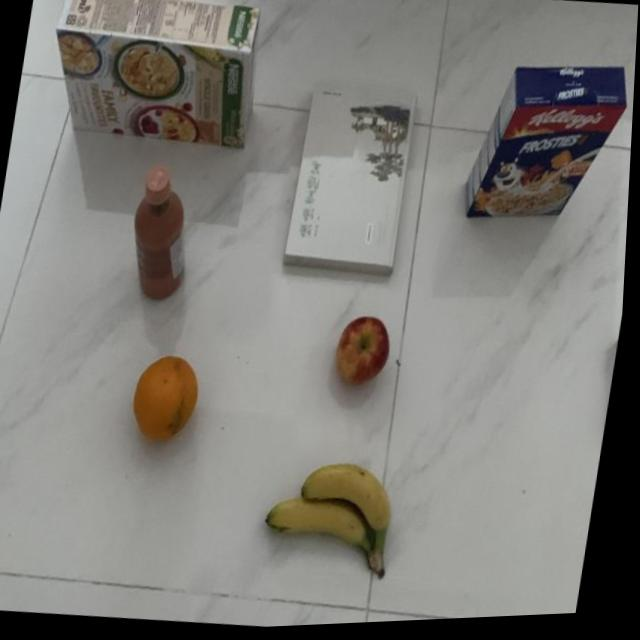Apple: (333, 312, 402, 399)
Banana: (258, 450, 412, 589)
Book: (281, 79, 426, 285)
Cerealbox: (36, 0, 270, 158), (460, 52, 636, 236)
Orange: (124, 343, 213, 450)
